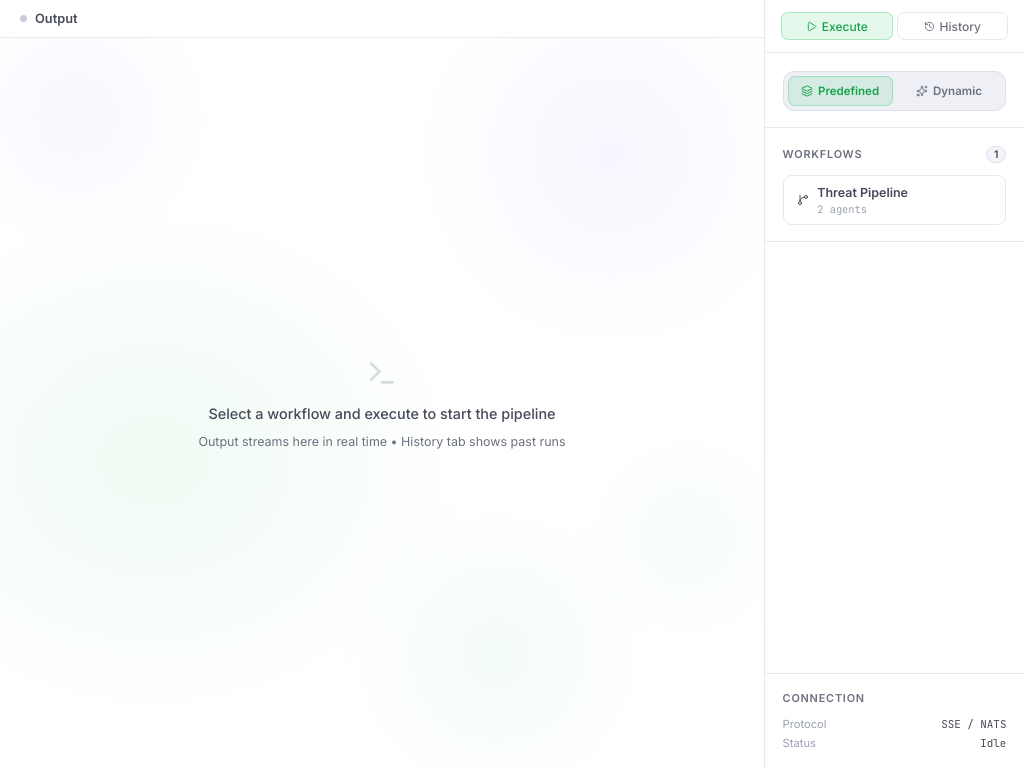
Test case: AgentOrchestration workspace selection › shows workspace hint when a workspace is selected
The image size is (1024, 768).
Click the text "Threat Pipeline": point(863, 192) [817,184,908,200]
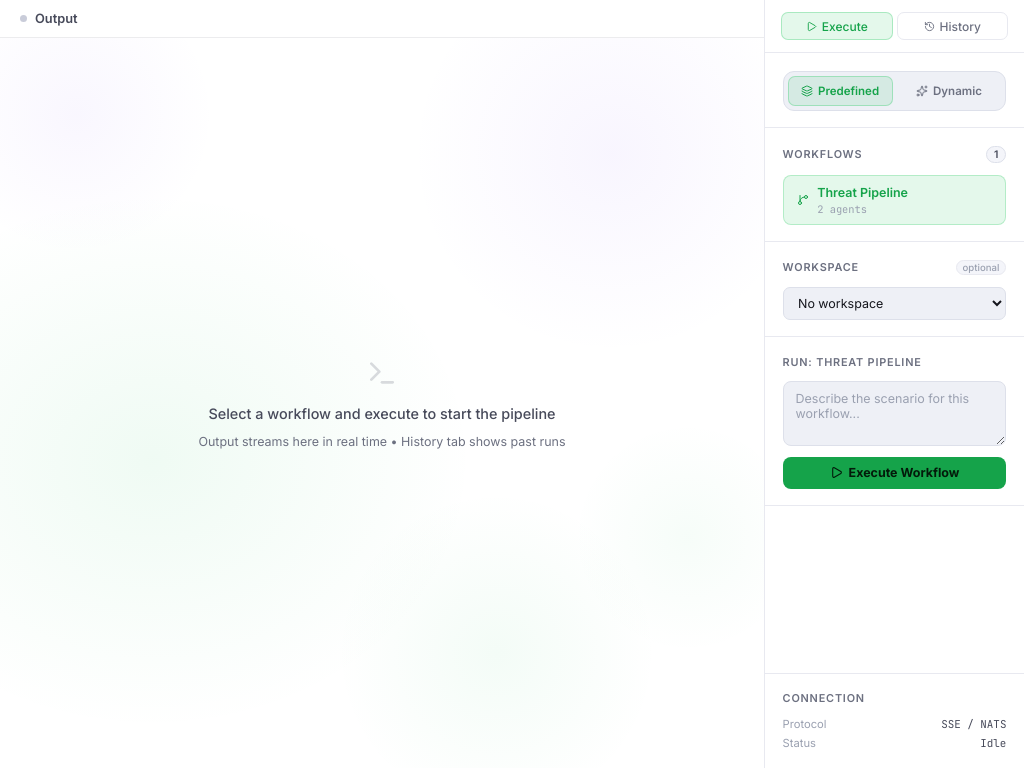
Select "Incident WS (3 files)" in the dropdown: point(894, 304) [783,287,1006,320]
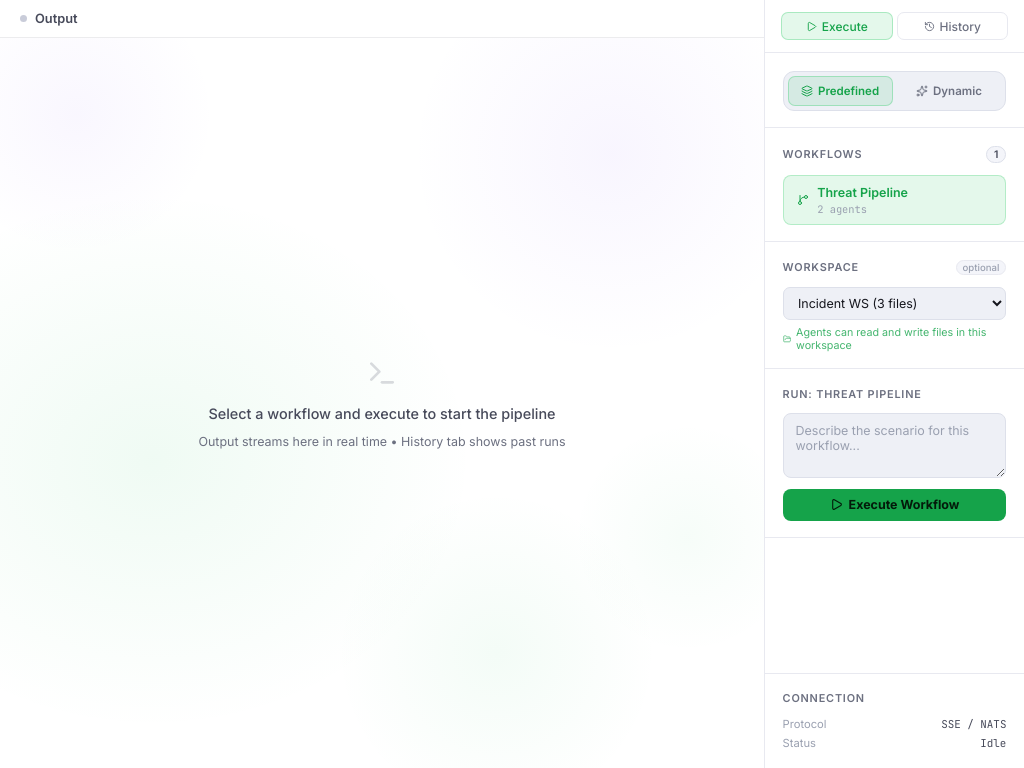
Check: the text "Agents can read and write files" is shown, box [796,326,986,352]
